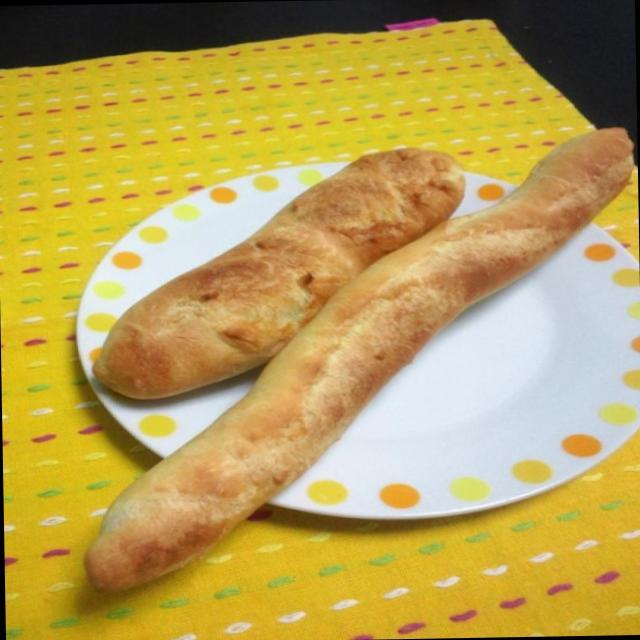Bread: (67, 104, 640, 598)
